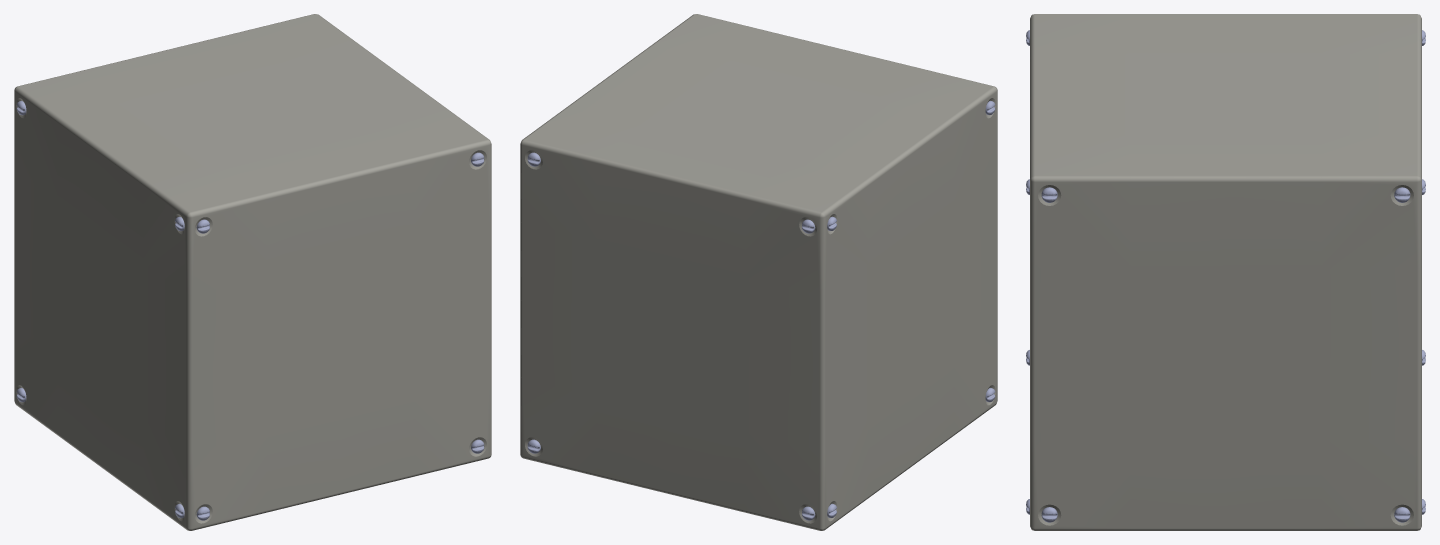
3 views of the same model, side by side, from view 1: azimuth 30°, elevation 25°; view 2: azimuth 150°, elevation 25°; view 3: azimuth 270°, elevation 25° (orthographic). The views are drawn at different scales.
Parts seen in each view (by area): view 1: Medium; view 2: Medium; view 3: Medium.
Boxes of the visible parts, bbox=[...] form: Medium: bbox=[14, 14, 491, 530]; Medium: bbox=[520, 14, 997, 530]; Medium: bbox=[1026, 14, 1425, 530].
Size of the model in its own units: 2.04 by 2 by 2.04.
1 material, 1 textured.
